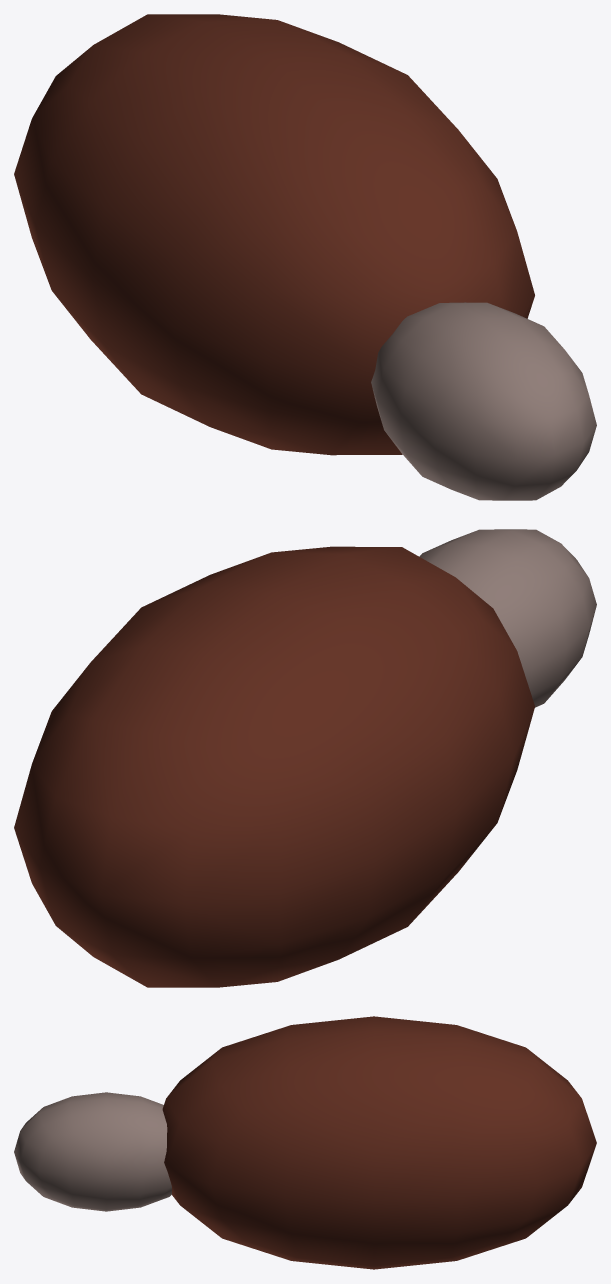
The model's file is Ice cream.fbx.
The picture shows the model from 3 angles, top to bottom: view 1: azimuth 30°, elevation 25°; view 2: azimuth 150°, elevation 25°; view 3: azimuth 270°, elevation 25°; orthographic projection. The views are drawn at different scales.
Parts seen in each view (by area): view 1: Cube; view 2: Cube; view 3: Cube.
Boxes of the visible parts, x1,y1,x2,y2 form: Cube: (14, 14, 596, 500); Cube: (14, 529, 596, 987); Cube: (14, 1016, 596, 1269).
Size of the model in its own units: 176 by 160 by 380.
